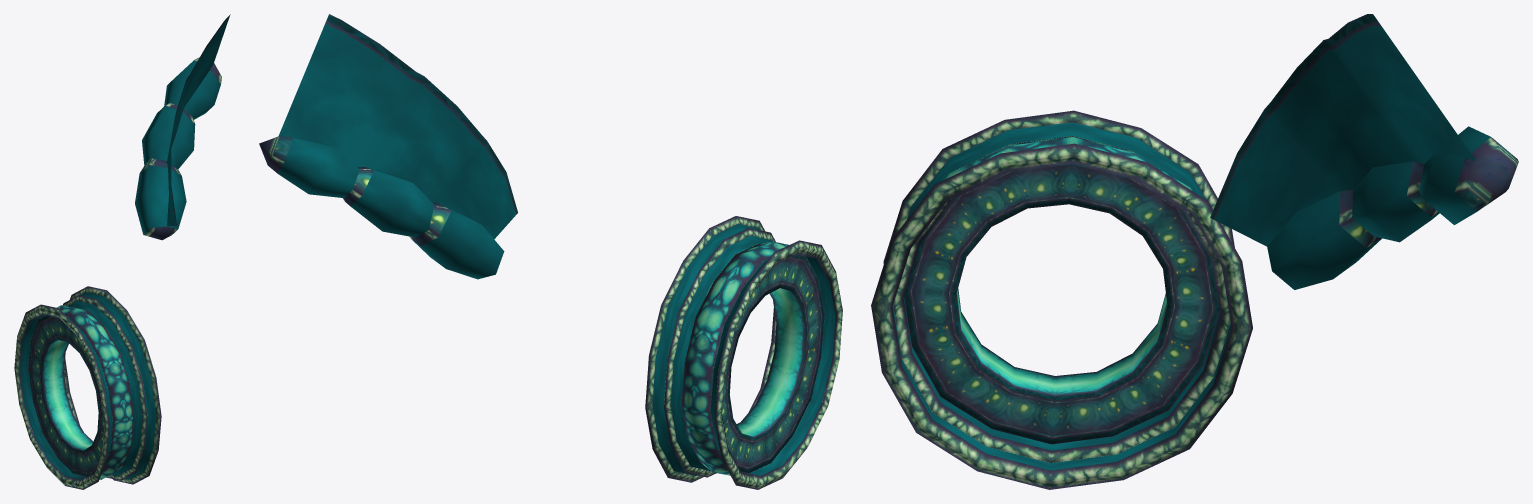
Rendered from Hand_p2.fbx.
3 views of the same model, side by side, from view 1: azimuth 30°, elevation 25°; view 2: azimuth 150°, elevation 25°; view 3: azimuth 270°, elevation 25° (orthographic). The views are drawn at different scales.
Parts seen in each view (by area): view 1: Hand_p2; view 2: Hand_p2; view 3: Hand_p2.
Boxes of the visible parts, x1=… form: Hand_p2: x1=14, y1=14, x2=230, y2=489; Hand_p2: x1=259, y1=14, x2=842, y2=489; Hand_p2: x1=871, y1=14, x2=1518, y2=489.
Bounding box in the file's own units: 3.21 × 4.01 × 3.56.
